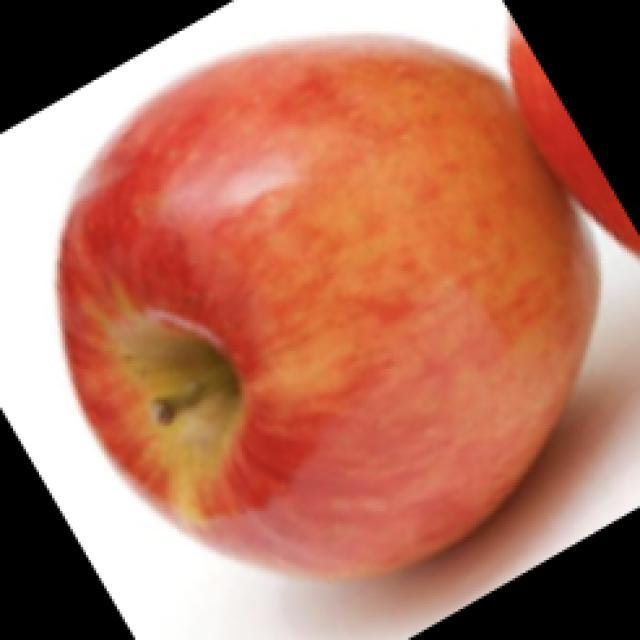Fresh Apple: (55, 49, 597, 568)
